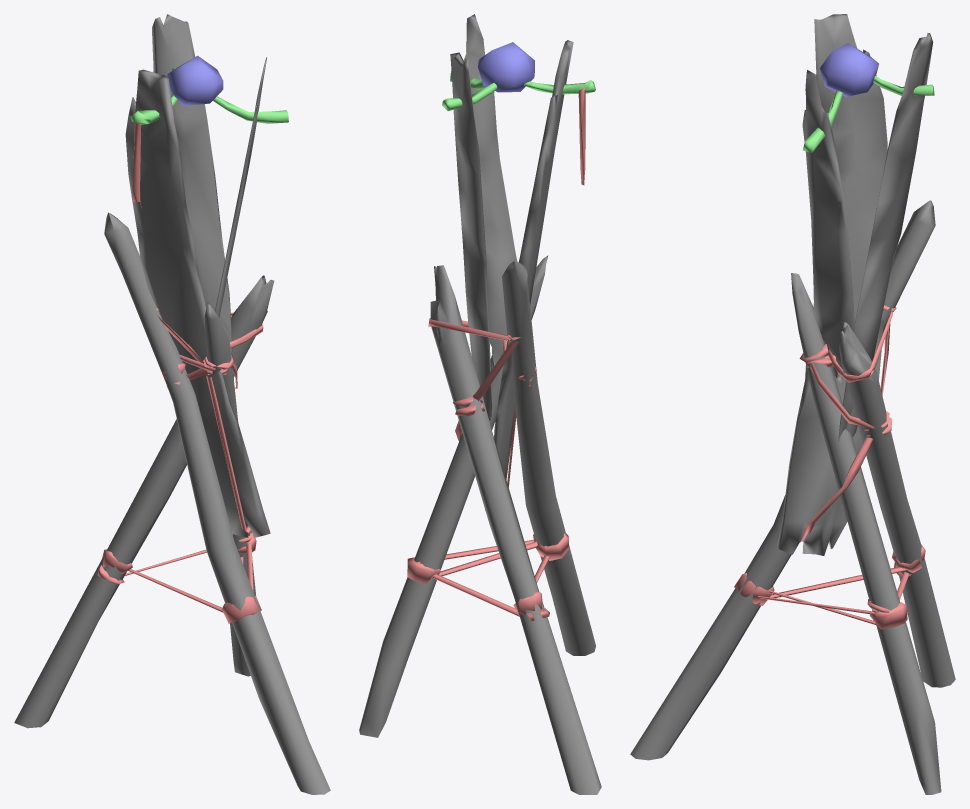
Rendered from torch_generic_village_B.gltf.
3 views of the same model, side by side, from view 1: azimuth 30°, elevation 25°; view 2: azimuth 150°, elevation 25°; view 3: azimuth 270°, elevation 25° (orthographic). The views are drawn at different scales.
Visible parts, largest first — view 1: torch_generic_village_B; view 2: torch_generic_village_B; view 3: torch_generic_village_B.
Boxes of the visible parts, bbox=[...] form: torch_generic_village_B: bbox=[14, 14, 330, 794]; torch_generic_village_B: bbox=[359, 14, 601, 794]; torch_generic_village_B: bbox=[630, 14, 955, 794].
Size of the model in its own units: 0.611 by 1.66 by 0.6893.
